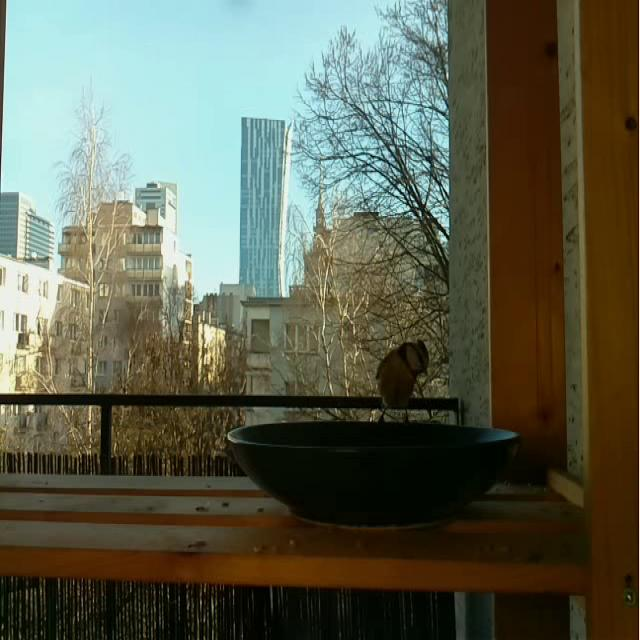Modraszka: (374, 339, 430, 424)
